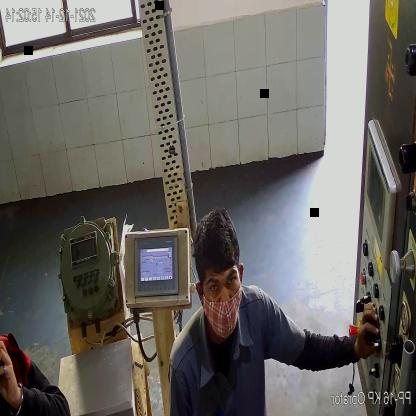no_goggles: (205, 267, 240, 301)
